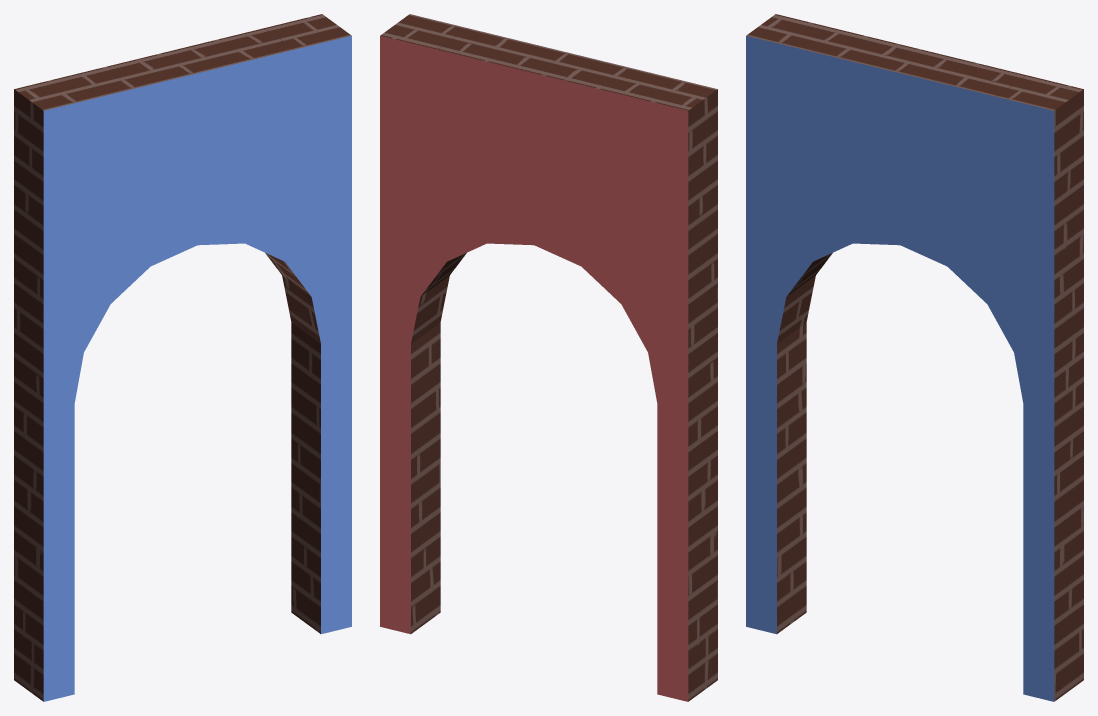
The model's file is wall1_3x5.5_arch.fbx.
The picture shows the model from 3 angles, left to right: view 1: azimuth 30°, elevation 25°; view 2: azimuth 150°, elevation 25°; view 3: azimuth 330°, elevation 25°; orthographic projection.
Parts seen in each view (by area): view 1: wall1_3x5.5_arch; view 2: wall1_3x5.5_arch; view 3: wall1_3x5.5_arch.
Boxes of the visible parts, bbox=[...] form: wall1_3x5.5_arch: bbox=[14, 14, 351, 701]; wall1_3x5.5_arch: bbox=[380, 14, 717, 701]; wall1_3x5.5_arch: bbox=[746, 14, 1083, 701].
Size of the model in its own units: 300 by 550 by 50.
3 materials, 1 textured.
